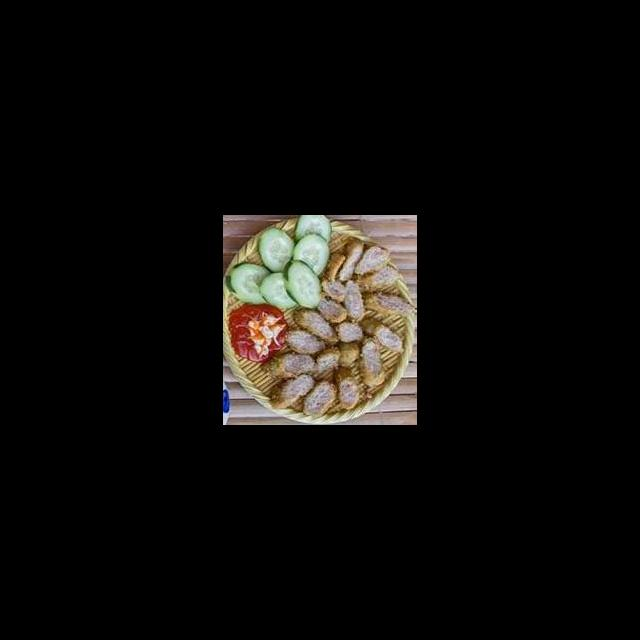cha com: (316, 274, 369, 328), (264, 371, 323, 414), (357, 315, 410, 360), (254, 346, 321, 381), (356, 331, 391, 394), (294, 377, 344, 419), (288, 304, 339, 345), (332, 318, 367, 372), (348, 242, 395, 281), (348, 263, 403, 296), (330, 361, 366, 411), (358, 289, 417, 317), (335, 237, 370, 284), (282, 326, 330, 356), (324, 247, 347, 283)
